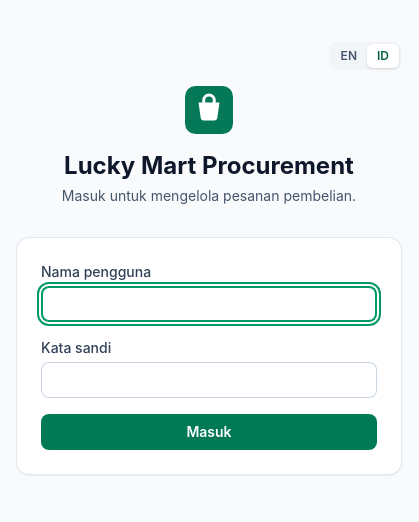
Test: language switcher › starts in the saved language and asks the API for the same language
Type "staff" into the field labelled "Nama pengguna" at (209, 304), box [41,286,377,322]
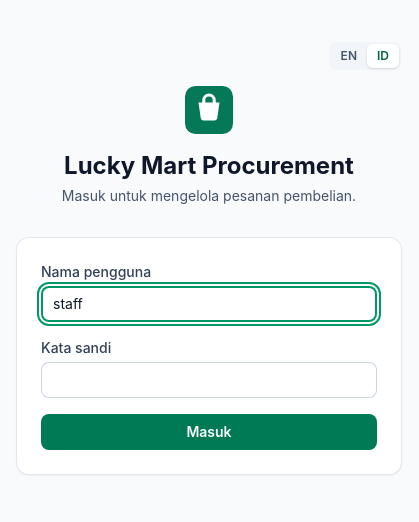
Type "salah" into the password field labelled "Kata sandi" at (209, 380), box [41,362,377,398]
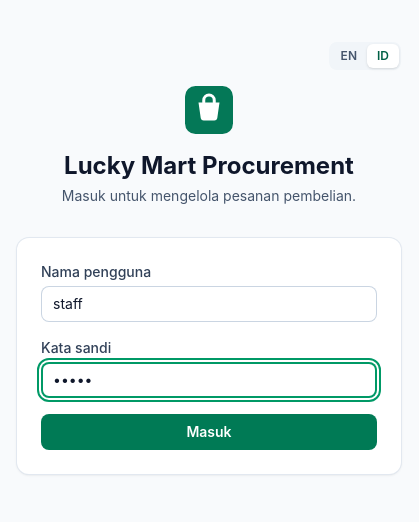
Click the button "Masuk" at (209, 432), box [41,414,377,450]
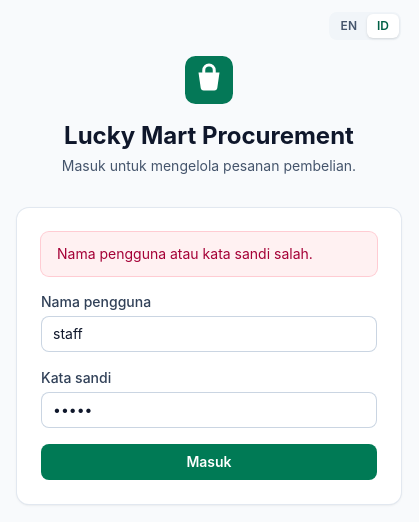
Expected: the message reads "Nama pengguna atau kata sandi salah.", [57,245,313,262]
